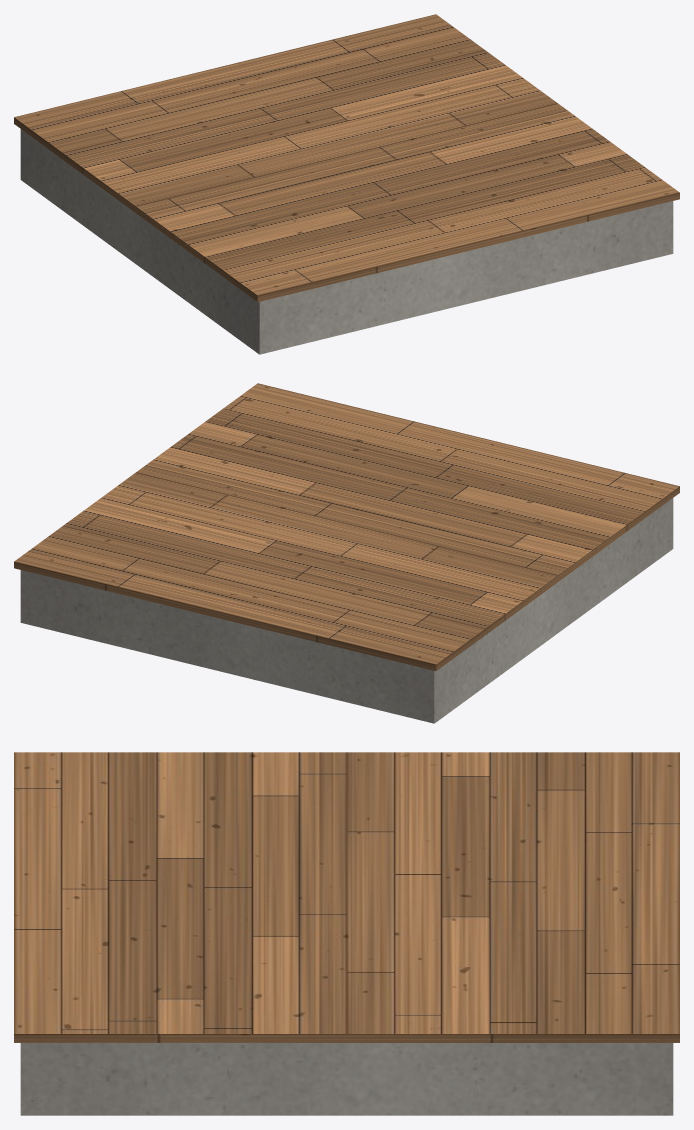
The model's file is floor_wood_g.glb.
The picture shows the model from 3 angles, top to bottom: view 1: azimuth 30°, elevation 25°; view 2: azimuth 150°, elevation 25°; view 3: azimuth 270°, elevation 25°; orthographic projection. The views are drawn at different scales.
Parts seen in each view (by area): view 1: floor_wood_g_floor, floor_wood_g_concrete; view 2: floor_wood_g_floor, floor_wood_g_concrete; view 3: floor_wood_g_floor, floor_wood_g_concrete.
Boxes of the visible parts, <box> form: floor_wood_g_floor: <box>14,14,679,301</box>; floor_wood_g_concrete: <box>20,129,673,354</box>; floor_wood_g_floor: <box>14,383,679,670</box>; floor_wood_g_concrete: <box>20,498,673,723</box>; floor_wood_g_floor: <box>14,752,679,1042</box>; floor_wood_g_concrete: <box>20,1043,673,1115</box>.
Bounding box in the file's own units: 2 × 0.28 × 2.
Materials: 2 (2 with a texture image).
